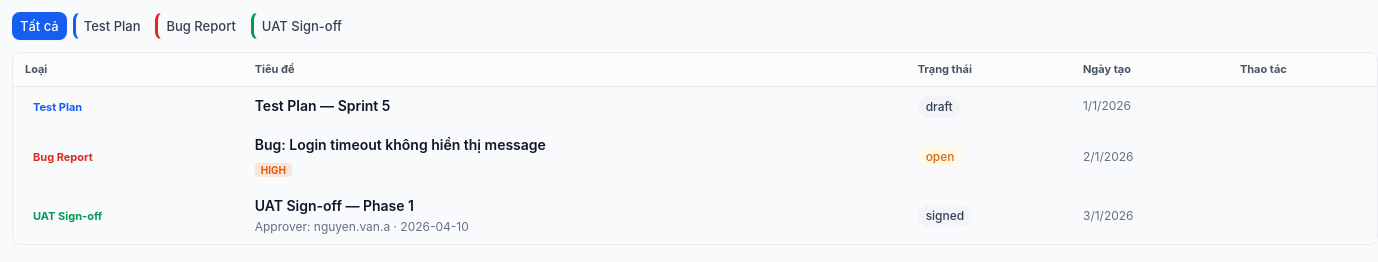
it: TestDocumentList › filters by TEST_PLAN type
This screenshot has width=1378, height=262.
Click the button "Test Plan".
click(111, 26)  # box [73,12,150,40]
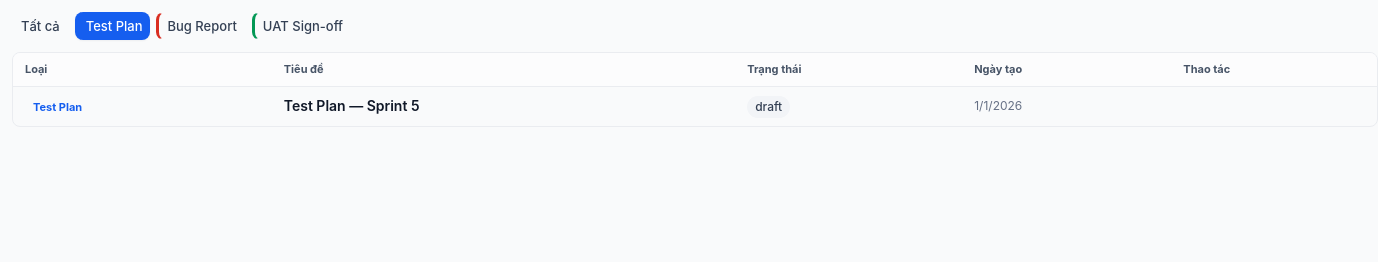
Expected: the text "Test Plan — Sprint 5" is shown, [284,97,420,114]
Expected: the text "Bug: Login timeout không hiển thị message" is gone
